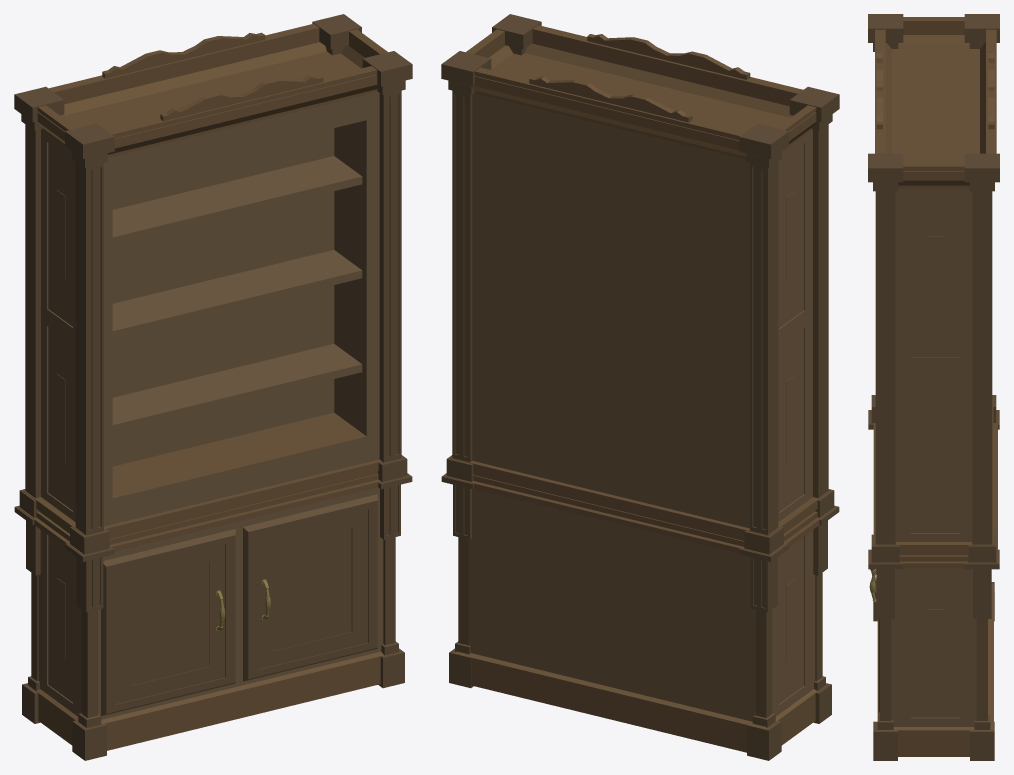
File: Bookcase.glb
3 views of the same model, side by side, from view 1: azimuth 30°, elevation 25°; view 2: azimuth 150°, elevation 25°; view 3: azimuth 270°, elevation 25° (orthographic). The views are drawn at different scales.
Visible parts, largest first — view 1: Bookcase; view 2: Bookcase; view 3: Bookcase.
Boxes of the visible parts, box(x1,y1,x2,y2) form: Bookcase: box(14, 14, 412, 760); Bookcase: box(441, 14, 839, 760); Bookcase: box(868, 14, 999, 760).
Bounding box in the file's own units: 1.84 × 3.37 × 0.6644.
